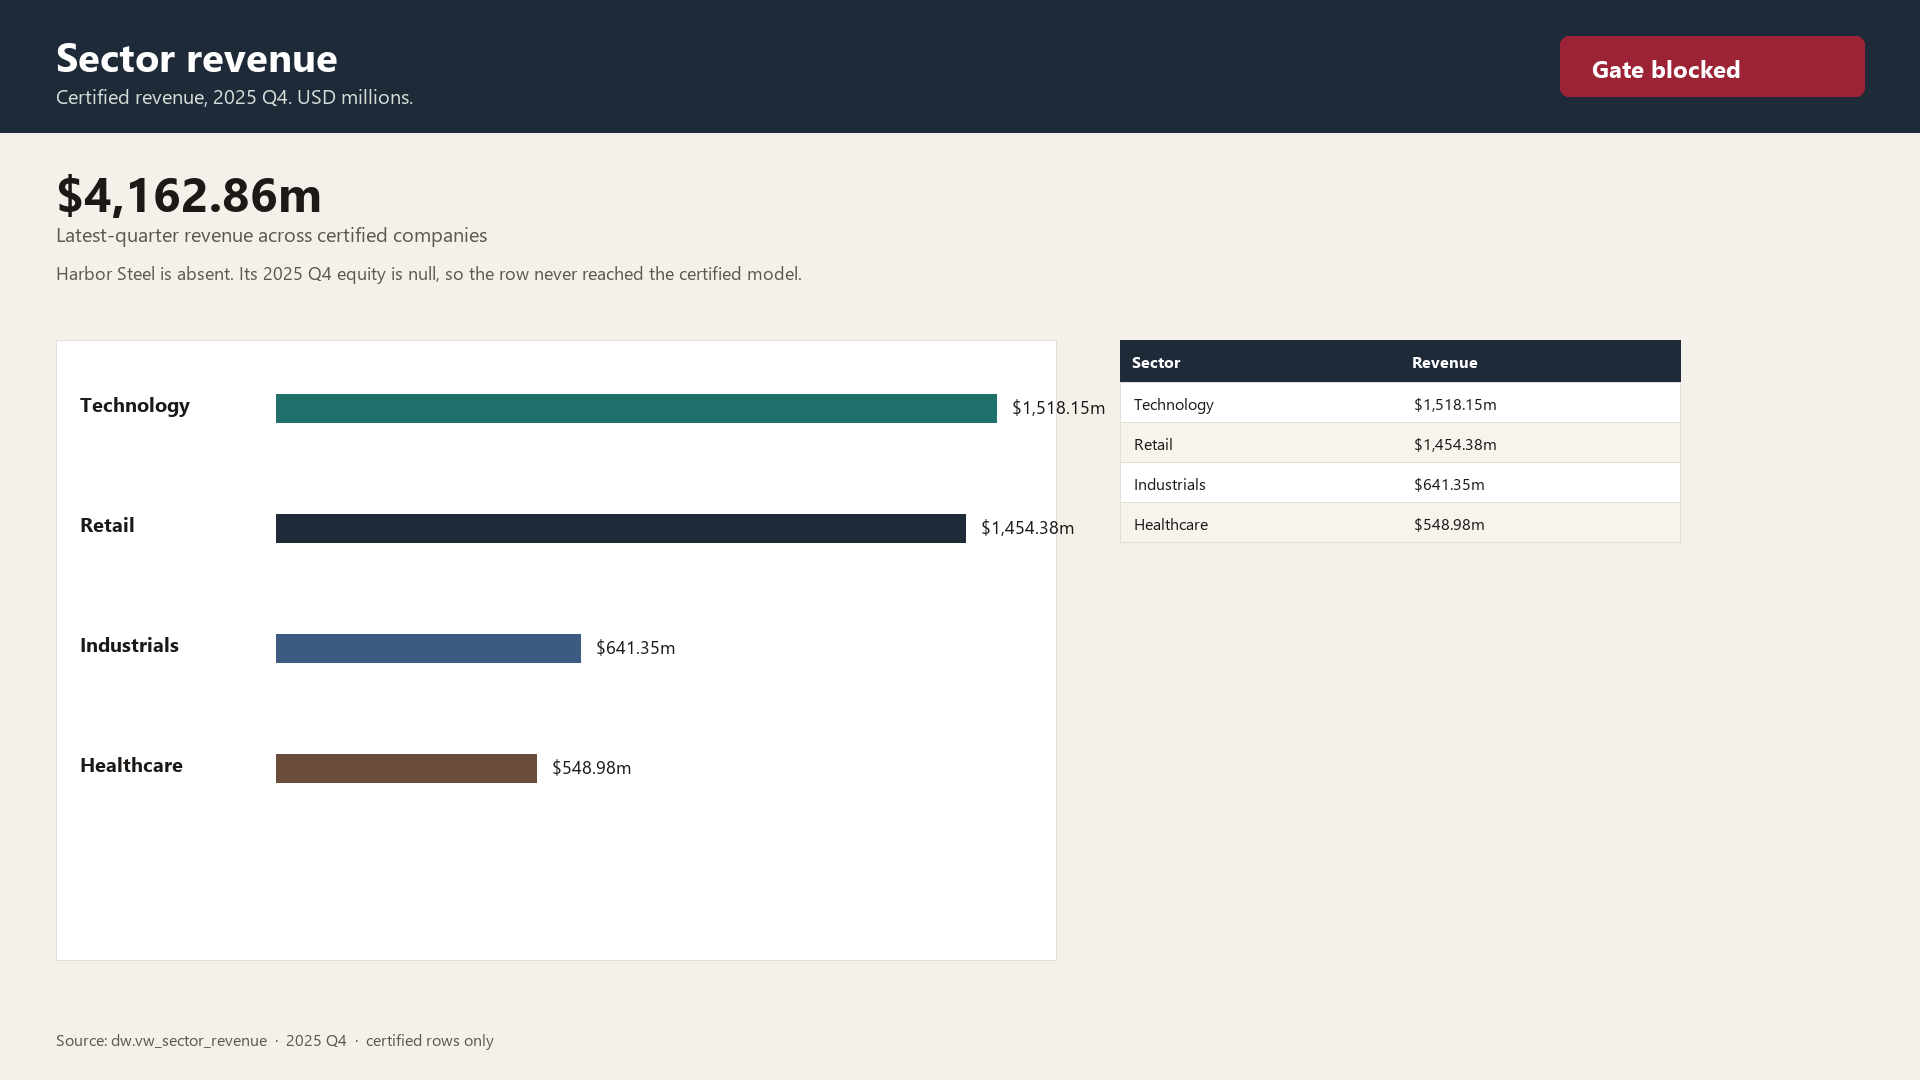

This screenshot's page, from the dashboard's own definition file:
{"tool":"powerbi","page":{"name":"Sector revenue","canvas":[1280,720],"ordinal":0},"visuals":[{"type":"clusteredBarChart","fields":{"Category":["SectorRevenue.Sector"],"Y":["SectorRevenue.Sector Revenue"]},"box":[40,30,1200,640],"z":0}]}

Visuals, with their boxes in screenshot pixels (x1, y1, x2, y2), scaled from the page's 1280x720 canvas onto the 1920x1080 screenshot:
clusteredBarChart - SectorRevenue.Sector x SectorRevenue.Sector Revenue: box=[60, 45, 1860, 1005]
